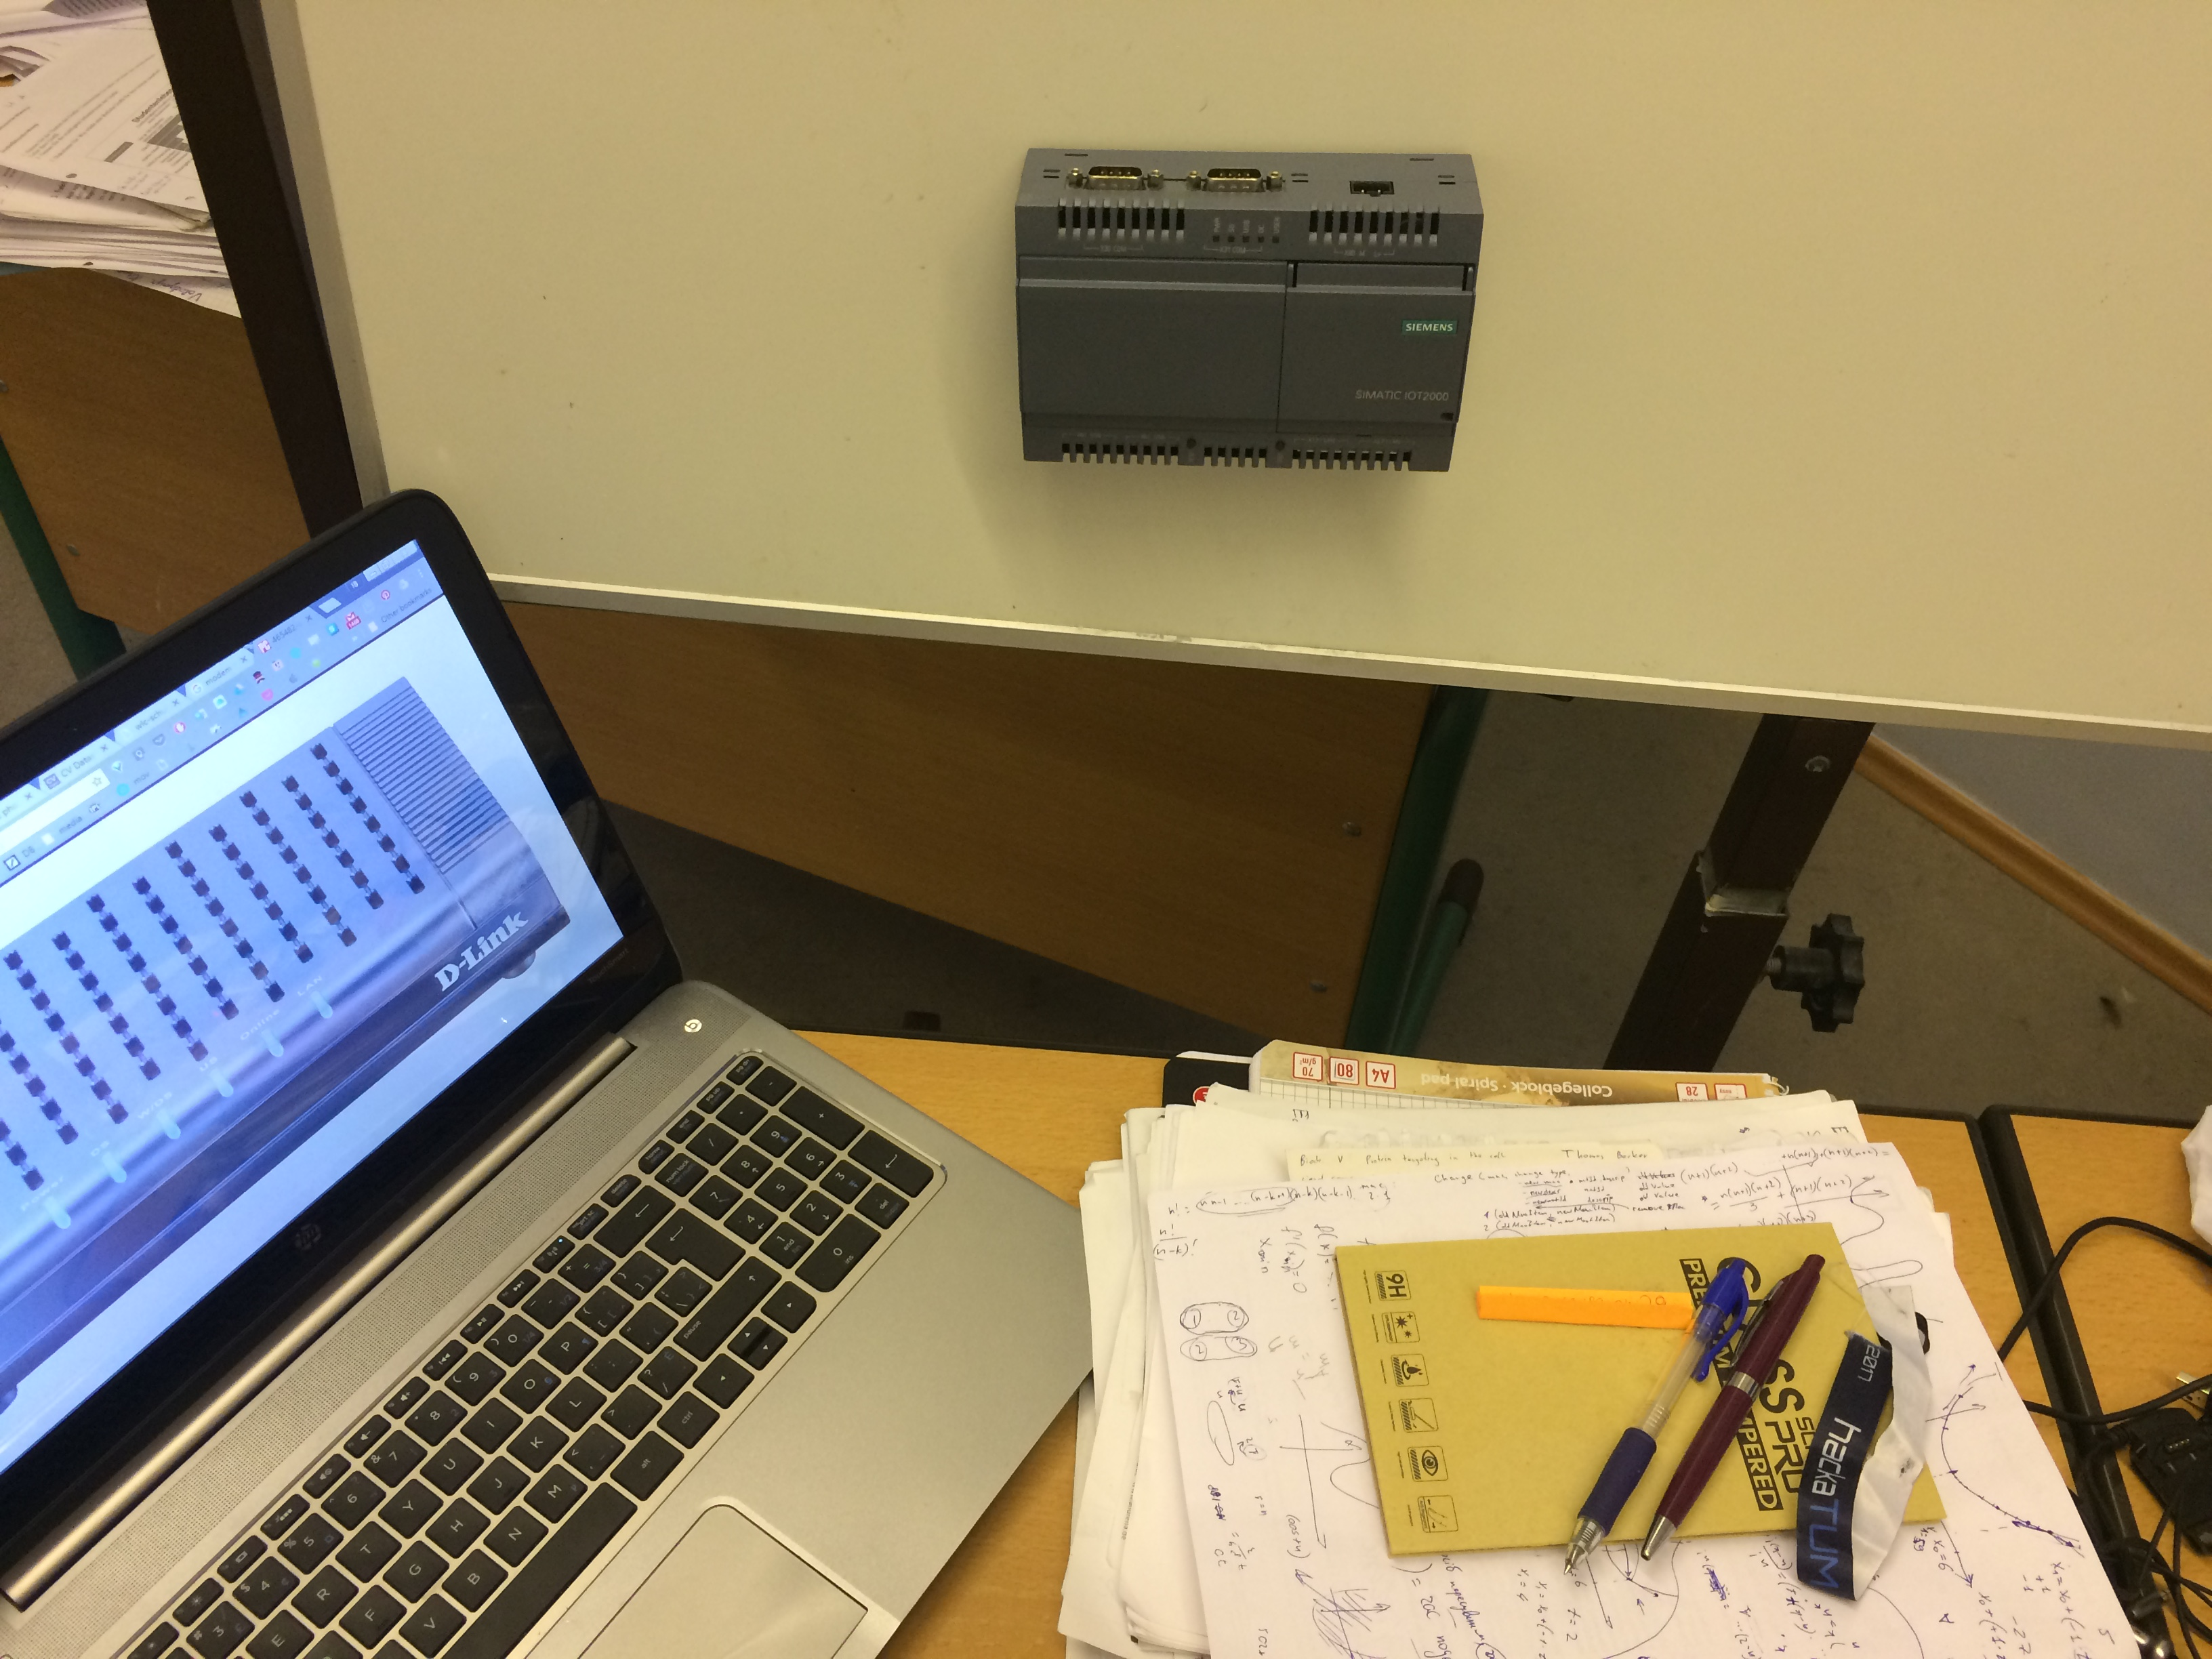iot2000: (1010, 143, 1487, 476)
